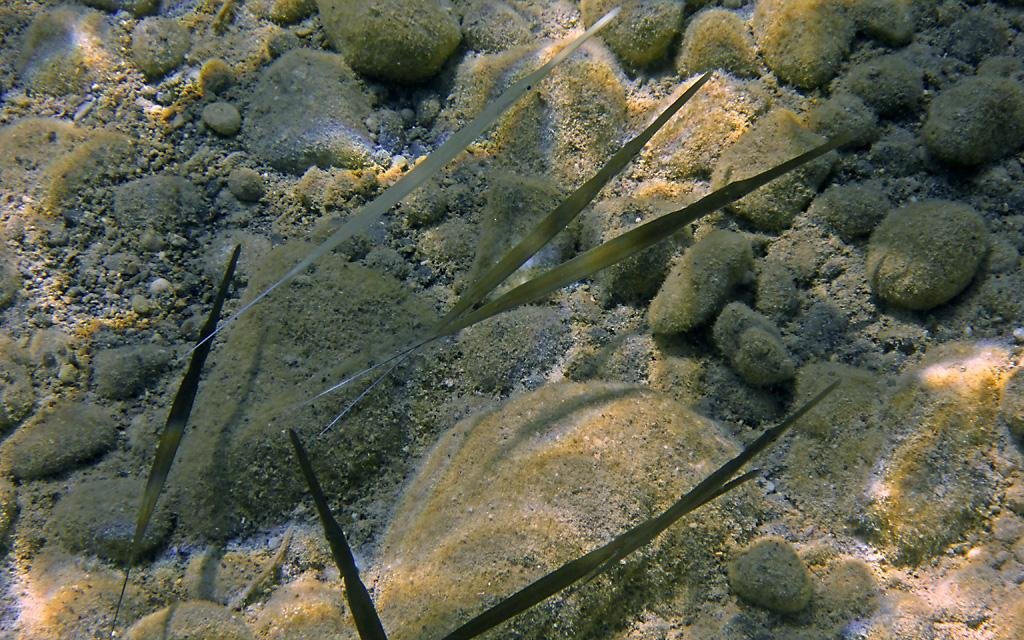Fistularia commersonii: (384, 280, 894, 611), (298, 38, 839, 344), (122, 0, 518, 373)
